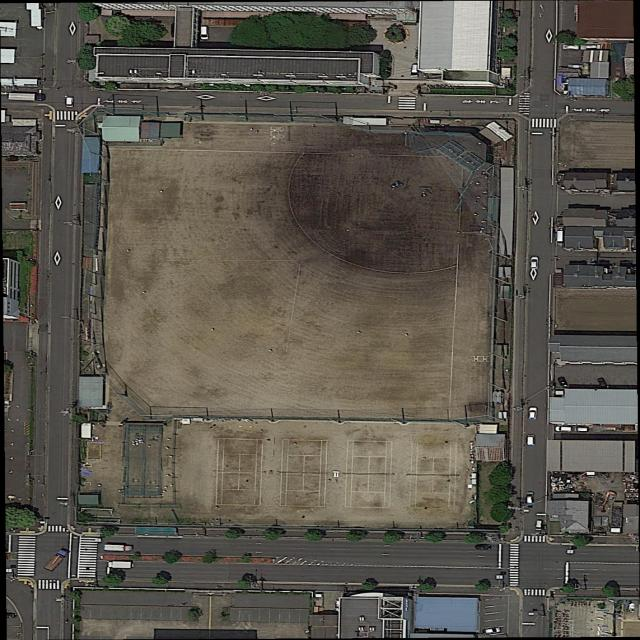large-vehicle: (43, 548, 72, 572), (6, 91, 46, 101), (104, 544, 132, 552), (108, 561, 134, 569)
small-vehicle: (557, 377, 569, 389), (484, 627, 501, 635), (596, 377, 608, 388), (554, 426, 573, 432), (529, 407, 538, 419), (526, 491, 534, 504), (410, 65, 419, 76), (65, 97, 74, 108), (530, 256, 538, 268), (526, 435, 535, 445), (574, 426, 588, 432), (562, 44, 578, 49), (535, 520, 543, 530), (476, 545, 491, 549)
